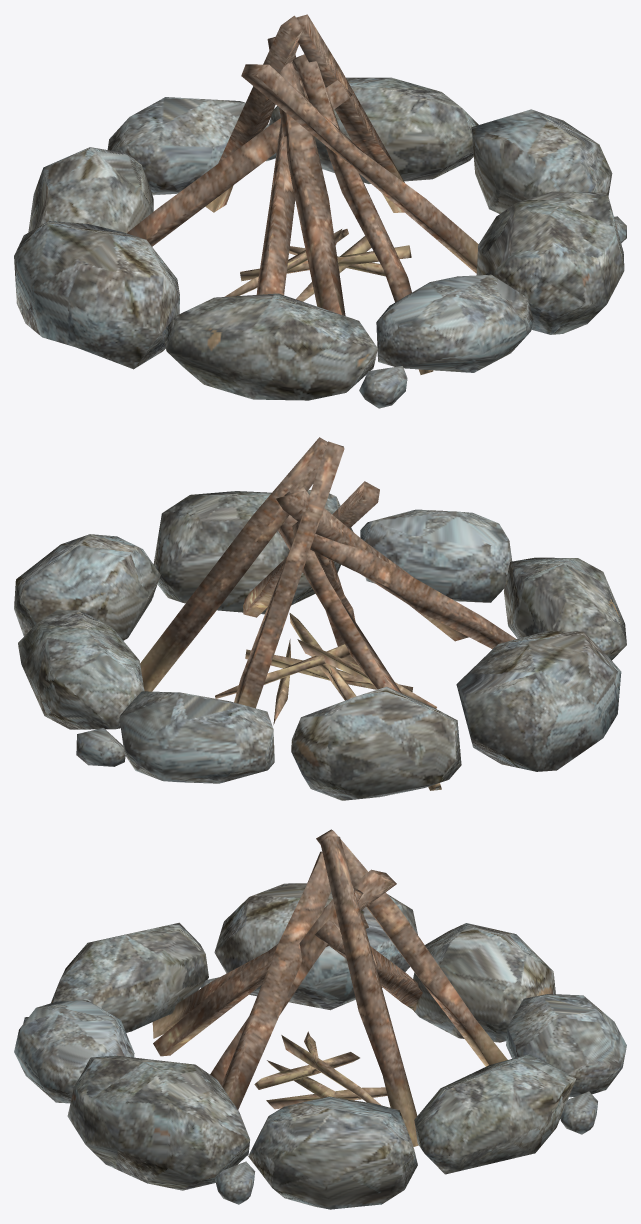
Rendered from Bonefire.fbx.
3 views of the same model, one above another, from view 1: azimuth 30°, elevation 25°; view 2: azimuth 150°, elevation 25°; view 3: azimuth 270°, elevation 25° (orthographic). The views are drawn at different scales.
Visible parts, largest first — view 1: Koster_low(Baked); view 2: Koster_low(Baked); view 3: Koster_low(Baked).
Boxes of the visible parts, x1,y1,x2,y2 form: Koster_low(Baked): (14, 14, 626, 408); Koster_low(Baked): (14, 437, 626, 800); Koster_low(Baked): (14, 829, 626, 1209).
Bounding box in the file's own units: 133 × 70.38 × 131.
1 material, 1 textured.
